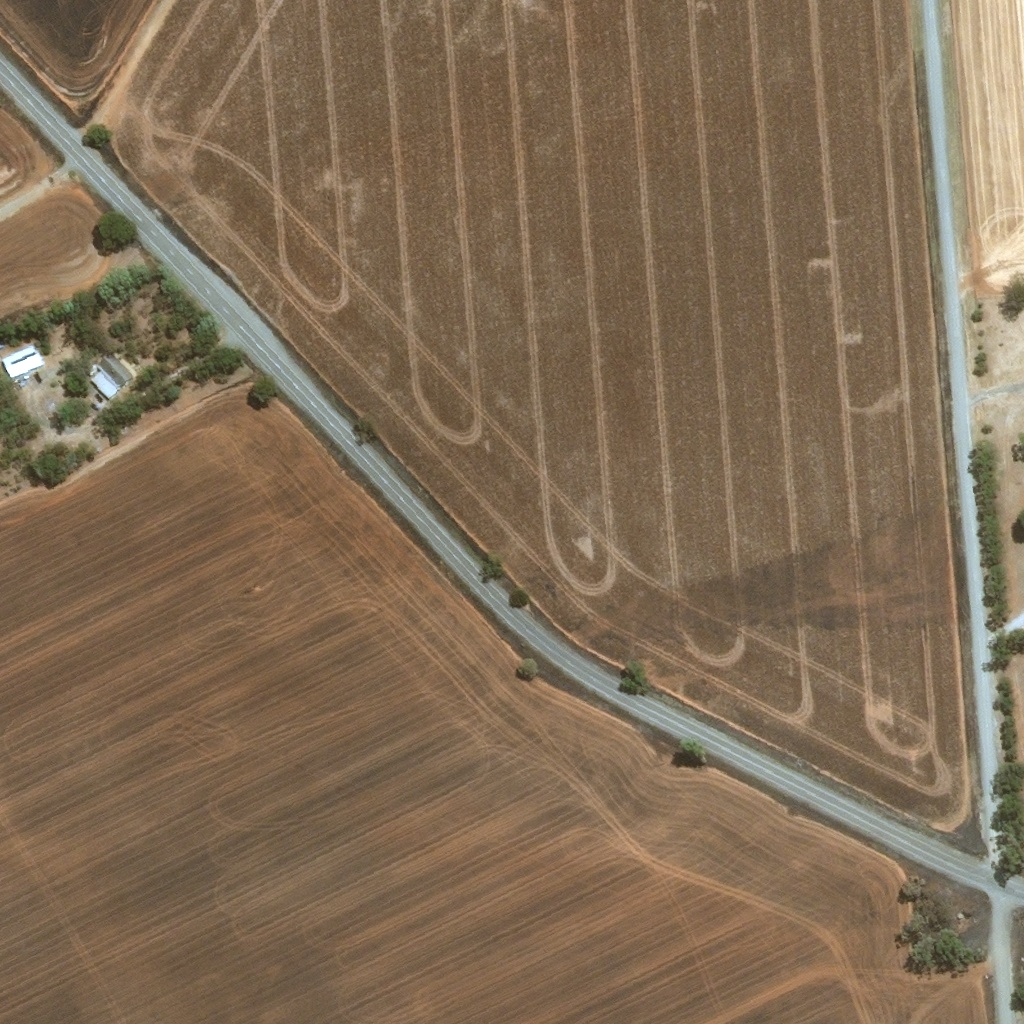0 no-damage: (0, 345, 41, 377), (96, 354, 133, 388), (87, 371, 119, 400)
4 un-classified: (0, 340, 7, 347)
